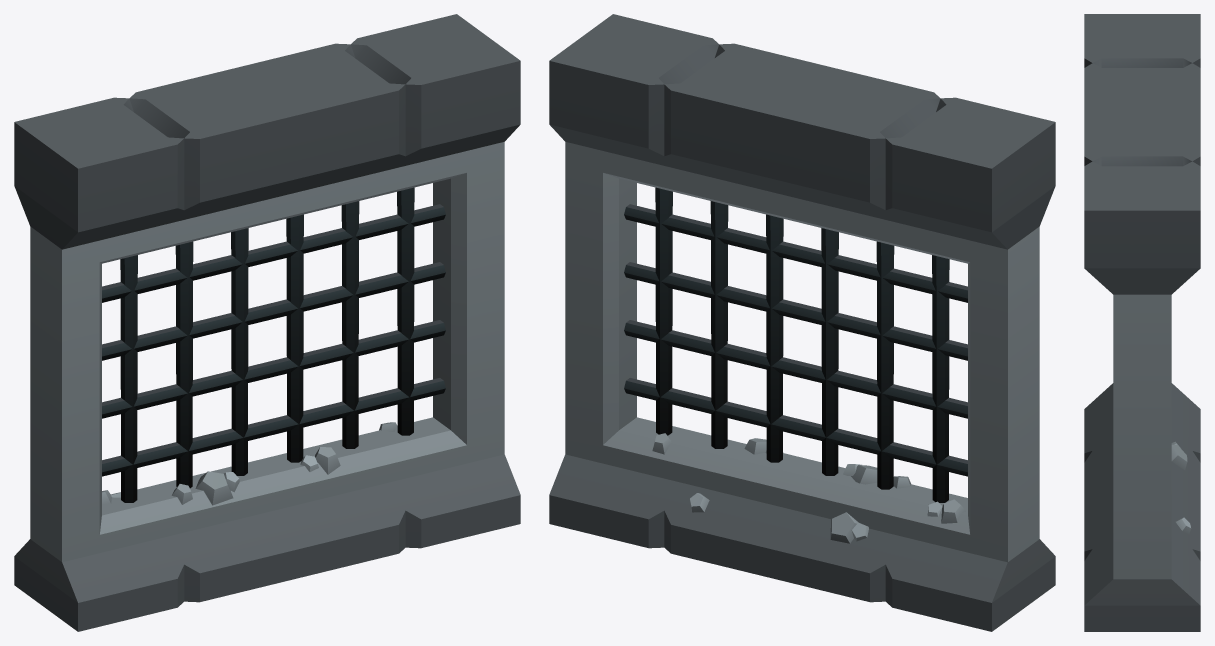
The model's file is dungeon-wall-gated.glb.
3 renders of one model, left to right at view 1: azimuth 30°, elevation 25°; view 2: azimuth 150°, elevation 25°; view 3: azimuth 270°, elevation 25°, orthographic. The views are drawn at different scales.
Parts seen in each view (by area): view 1: dungeon-wall-gated; view 2: dungeon-wall-gated; view 3: dungeon-wall-gated.
Part boxes in pixels (x1,y1,x2,y2): dungeon-wall-gated: (14, 14, 520, 631); dungeon-wall-gated: (549, 14, 1055, 631); dungeon-wall-gated: (1084, 14, 1200, 631).
Size of the model in its own units: 3 by 3 by 0.7501.
1 material, 1 textured.
